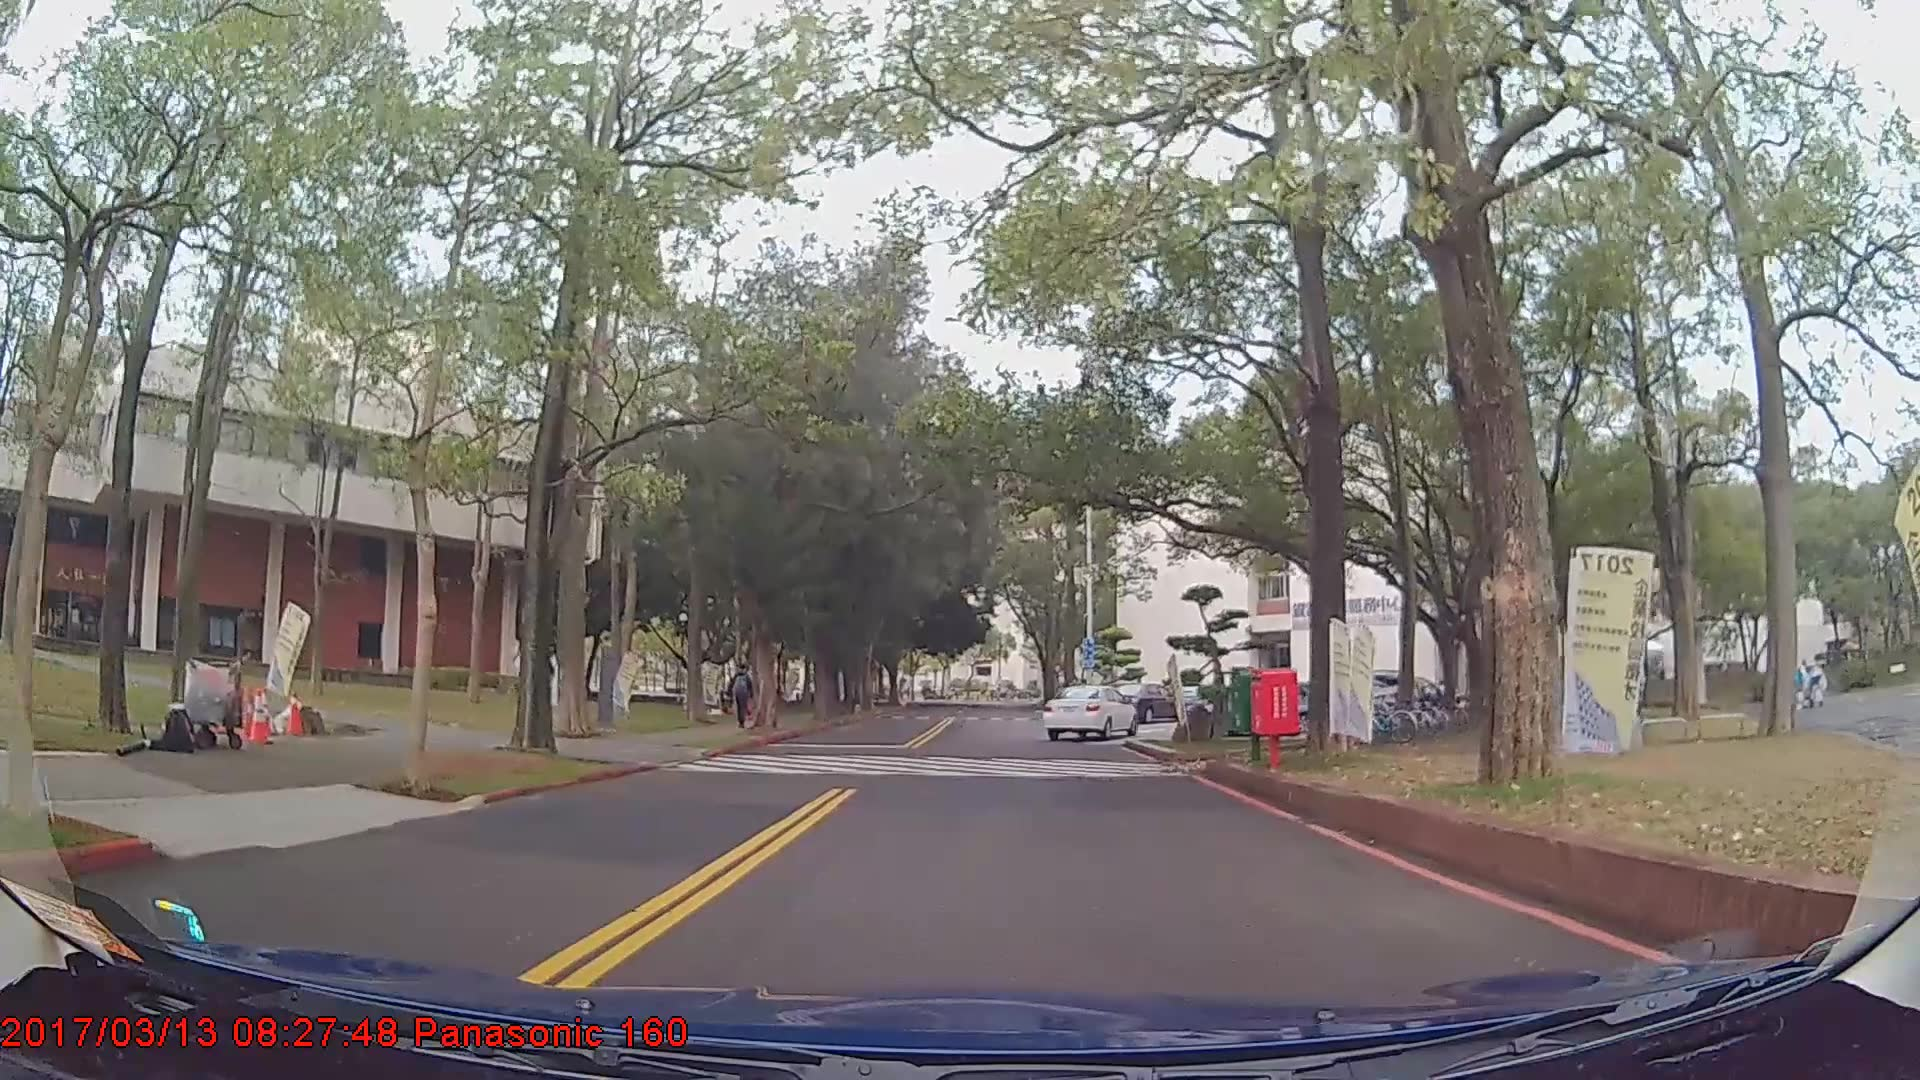pedestrian: (730, 665, 757, 729)
vehicle: (1041, 682, 1136, 741), (1103, 680, 1180, 723)
